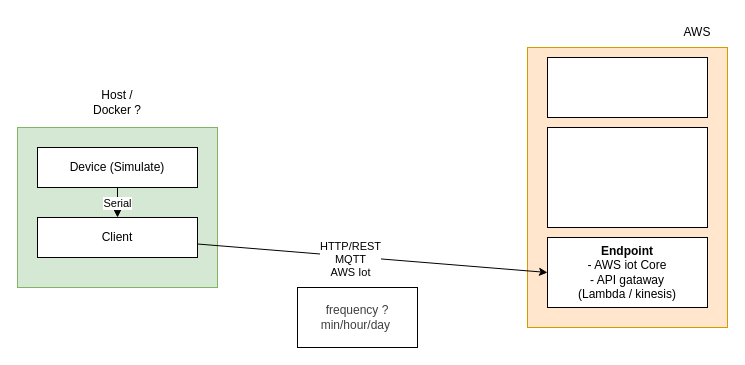
Image size: 745x365. Some labels were removed from this diagram. Each missing label, with the box of its shape:
Dashboard - Grafana -Amazone QuickSight -custom web dashboard: (546, 56, 708, 118)
STORAGE - Aws Timestream - InfluxDB - TimescaleDB - Custom: (546, 126, 708, 228)
